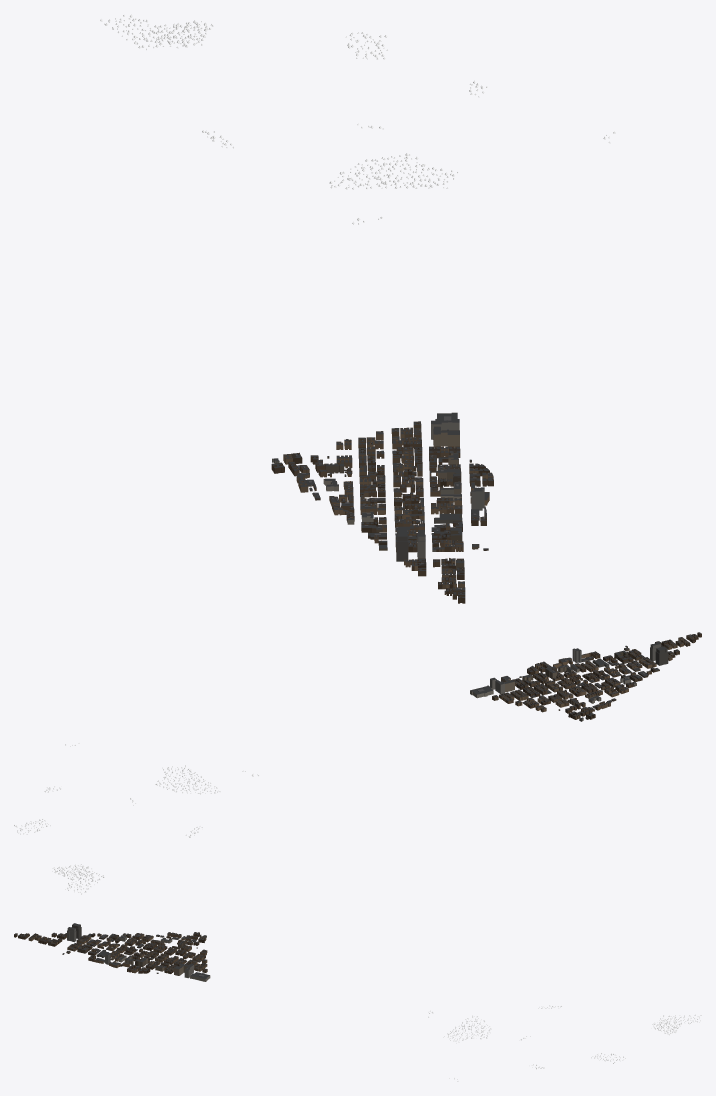
File: manhattan_+02_+05.glb
3 renders of one model, top to bottom at view 1: azimuth 30°, elevation 25°; view 2: azimuth 150°, elevation 25°; view 3: azimuth 270°, elevation 25°, orthographic. The views are drawn at different scales.
Parts seen in each view (by area): view 1: BLD_lowrise_+02_+05, TREE_+02_+05, BLD_midrise_+02_+05; view 2: BLD_lowrise_+02_+05, TREE_+02_+05, BLD_midrise_+02_+05; view 3: BLD_lowrise_+02_+05, TREE_+02_+05, BLD_midrise_+02_+05.
Part boxes in pixels (x1,y1,x2,y2): BLD_lowrise_+02_+05: [271, 412, 493, 603]; TREE_+02_+05: [100, 14, 615, 224]; BLD_midrise_+02_+05: [324, 419, 484, 570]; BLD_lowrise_+02_+05: [470, 632, 701, 721]; TREE_+02_+05: [14, 743, 259, 894]; BLD_midrise_+02_+05: [490, 641, 661, 705]; BLD_lowrise_+02_+05: [14, 932, 210, 981]; TREE_+02_+05: [428, 1005, 701, 1081]; BLD_midrise_+02_+05: [48, 940, 193, 978].
Bounding box in the file's own units: 2512 × 97.8 × 4949.
